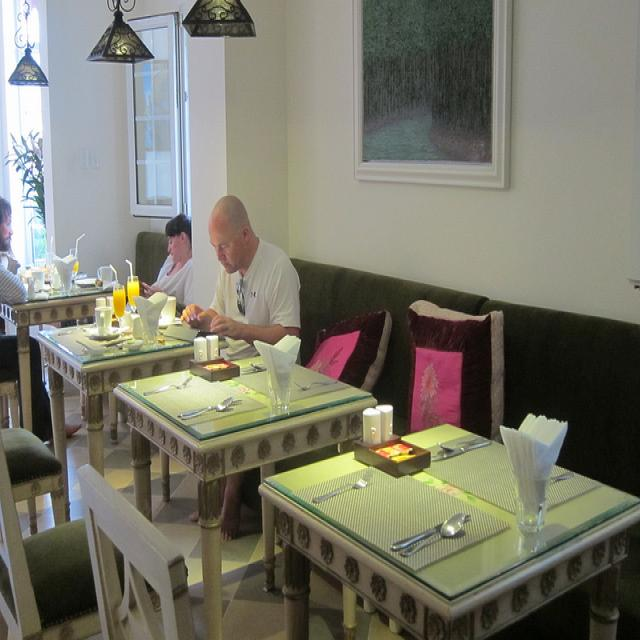chair: (1, 446, 104, 631), (79, 466, 191, 628), (0, 425, 69, 537)
dining table: (257, 401, 640, 634), (114, 352, 377, 632), (26, 312, 258, 526), (0, 234, 124, 433)
